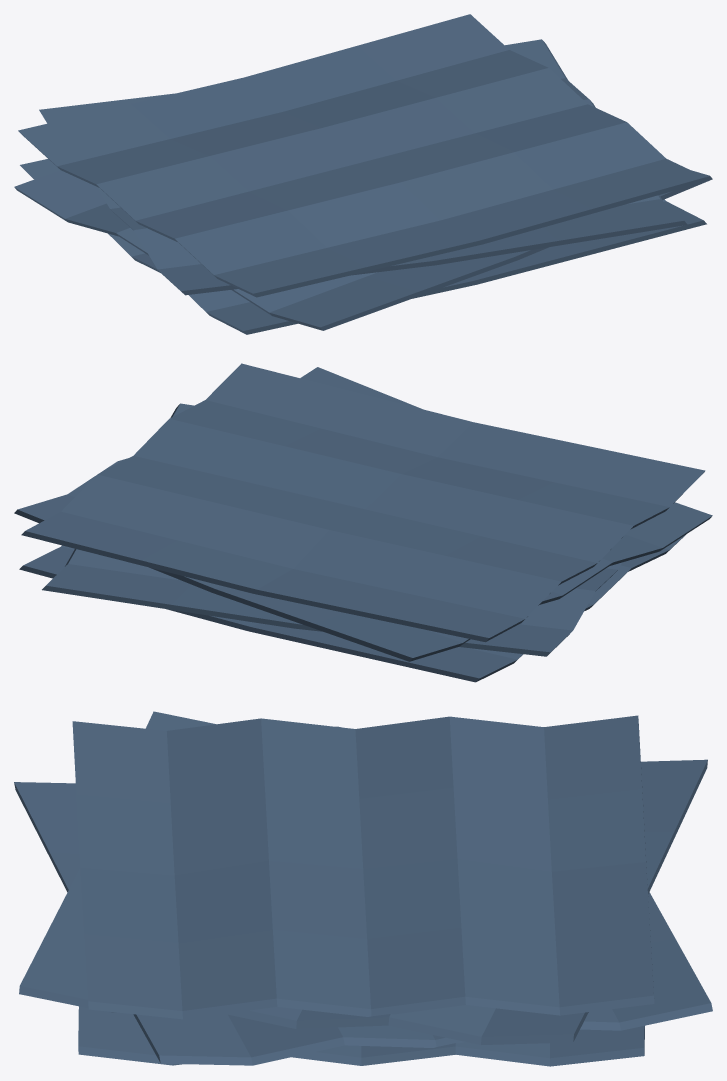
File: Refinado_Aluminio.fbx
3 renders of one model, top to bottom at view 1: azimuth 30°, elevation 25°; view 2: azimuth 150°, elevation 25°; view 3: azimuth 270°, elevation 25°, orthographic. The views are drawn at different scales.
Parts seen in each view (by area): view 1: Refinado_Aluminio; view 2: Refinado_Aluminio; view 3: Refinado_Aluminio.
Part boxes in pixels (x1,y1,x2,y2): Refinado_Aluminio: (14,14,712,334); Refinado_Aluminio: (14,363,712,682); Refinado_Aluminio: (14,711,712,1066).
Size of the model in its own units: 250 by 25.12 by 225.
